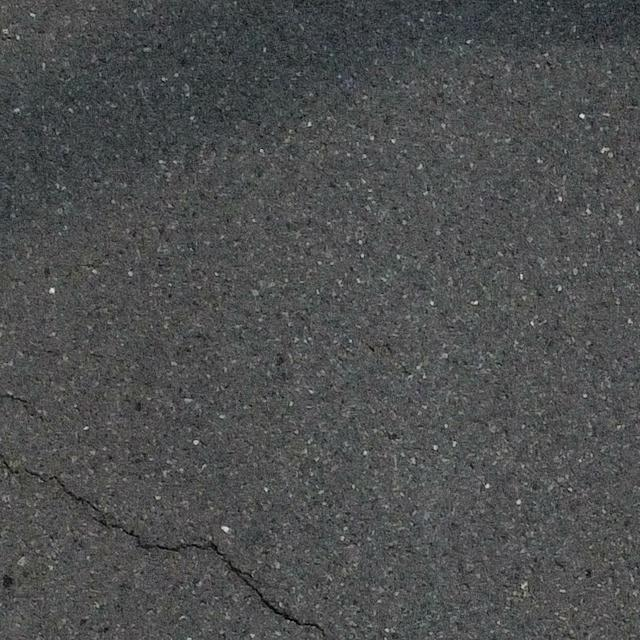TransverseCrack: (2, 456, 326, 640)
